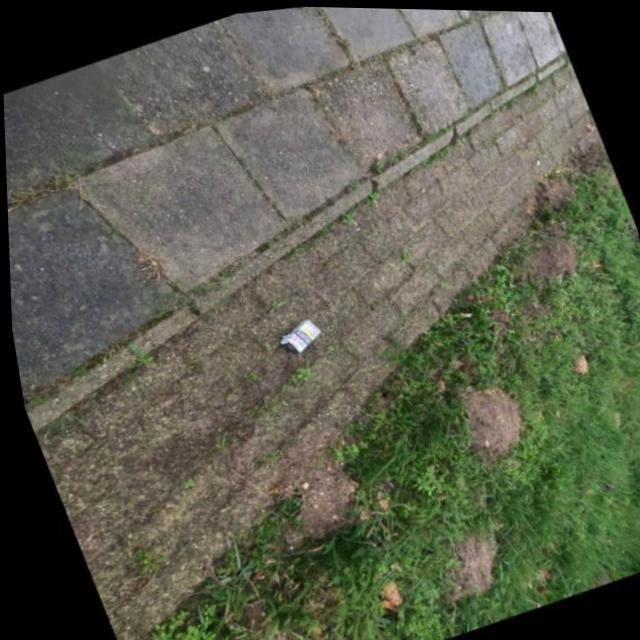Paper: (271, 314, 322, 355)
